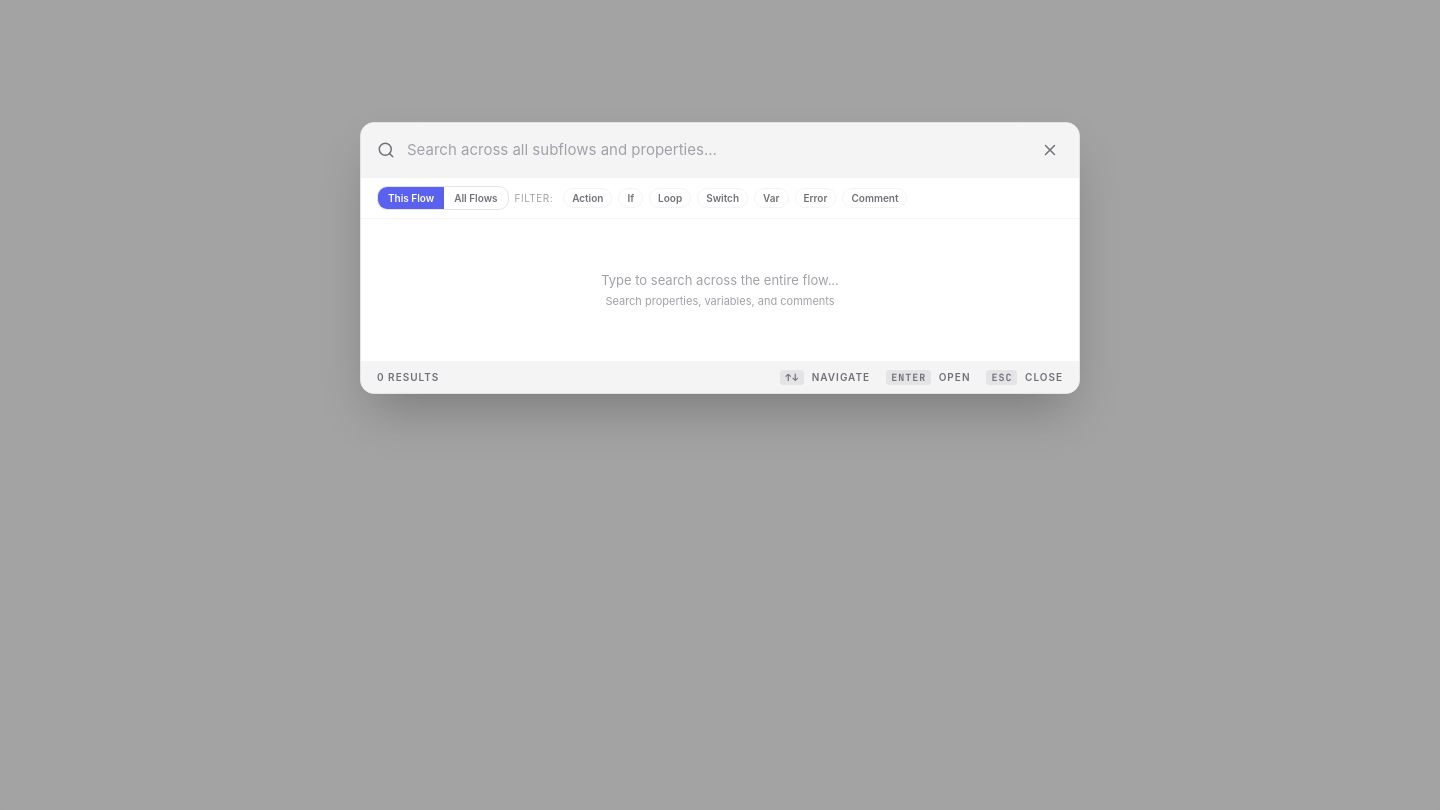
Test case: GlobalSearchOverlay all-flows search › shows the minimum hint when the server refuses a term the client let through
Click the button "All Flows": (476, 198) [444, 186, 508, 208]
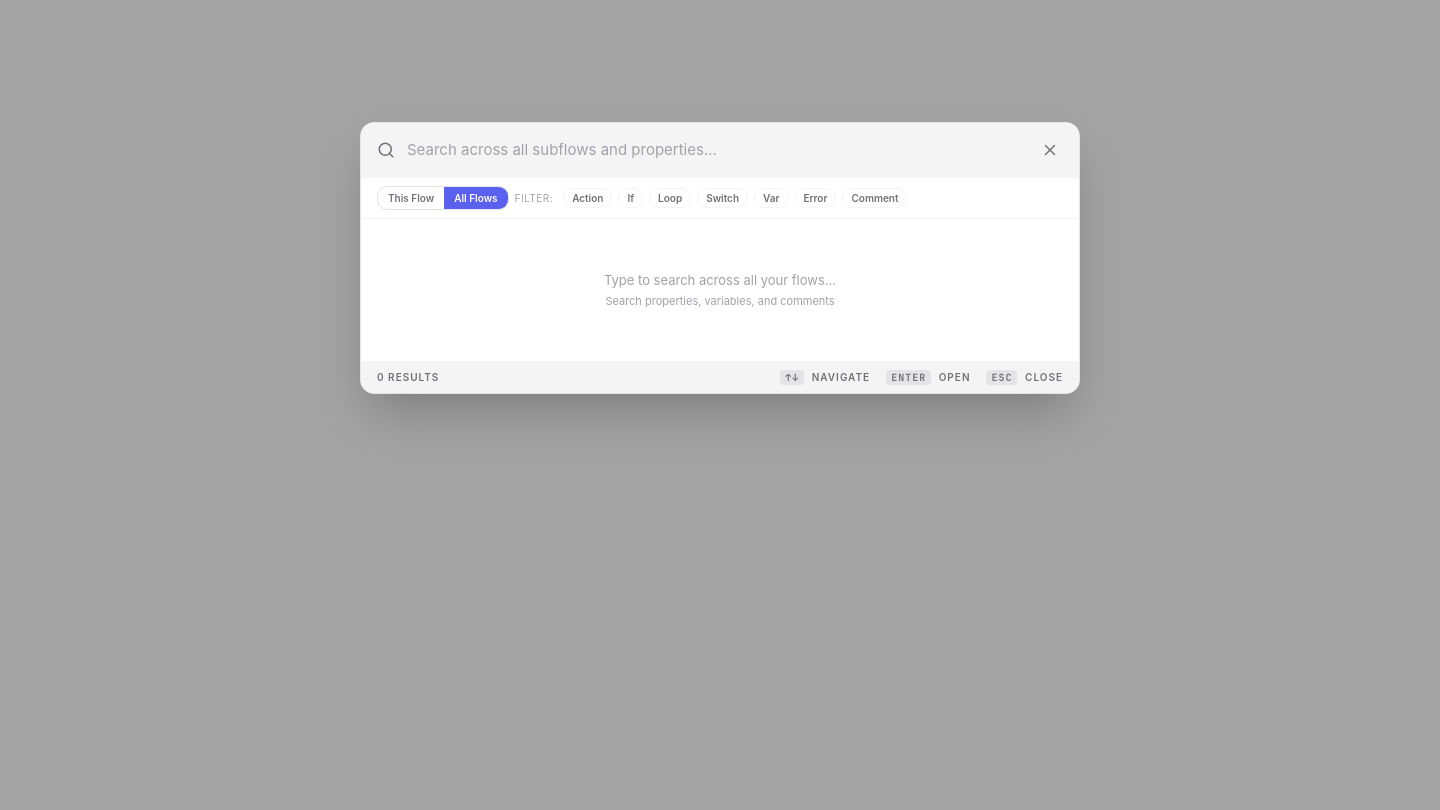
In the dropdown: (722, 150) [407, 122, 1037, 176], type "𱍐𱍑𱍒"
Wait 300 ms
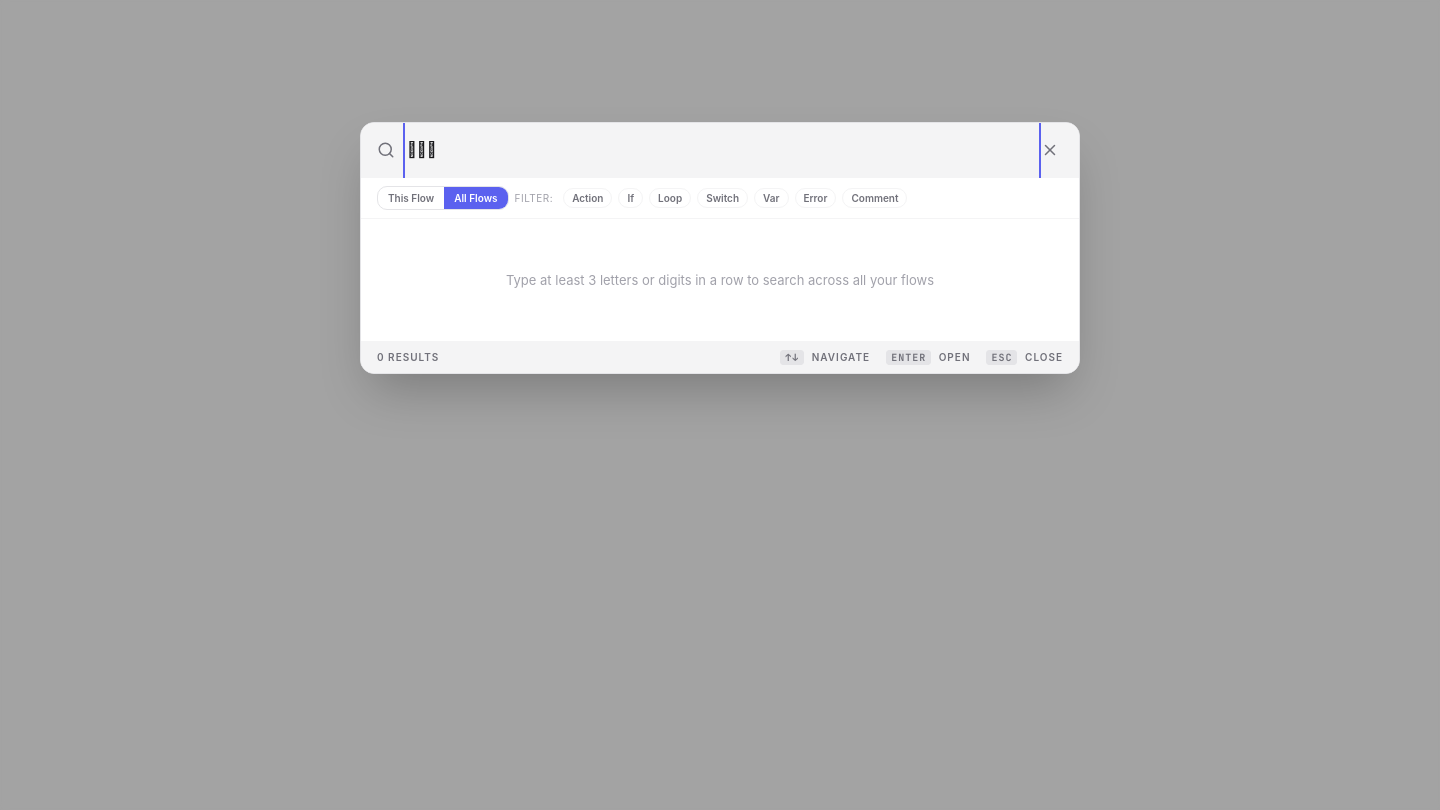
expect the text "Type at least 3 letters or digits in a row to search across all your flows" is shown: met, box [506, 272, 934, 288]
